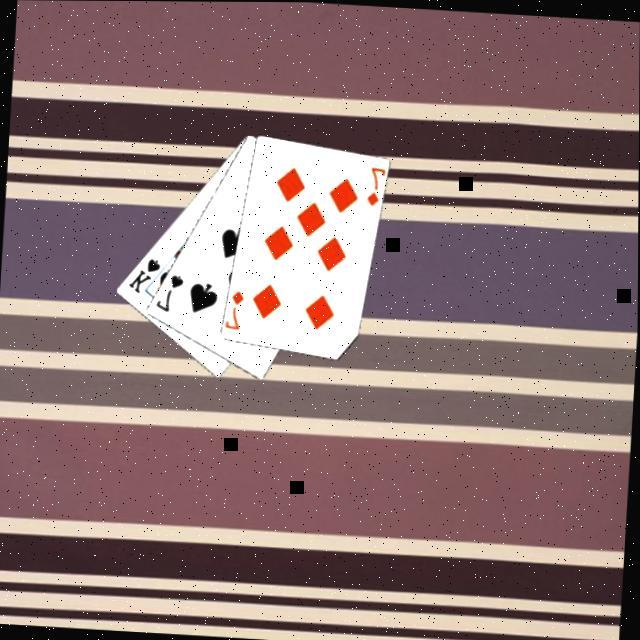7D: (225, 284, 248, 331), (365, 162, 387, 208)
7S: (153, 268, 187, 313)
KS: (125, 252, 164, 295)
